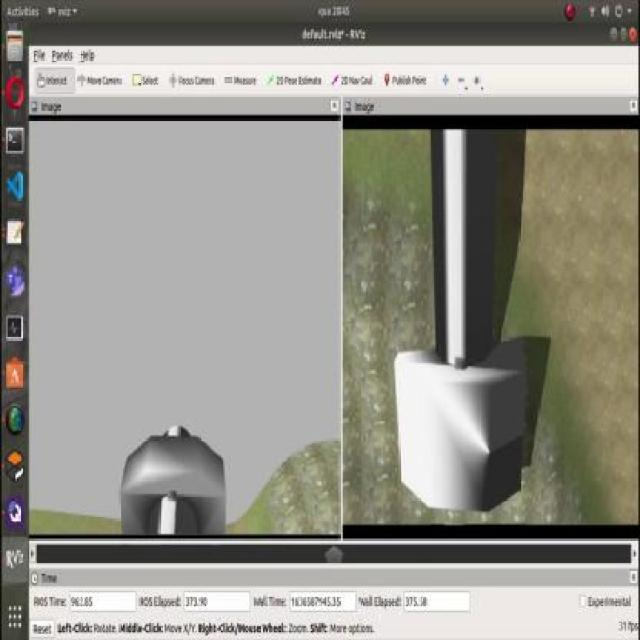gas: (427, 129, 498, 426), (154, 427, 194, 539)
